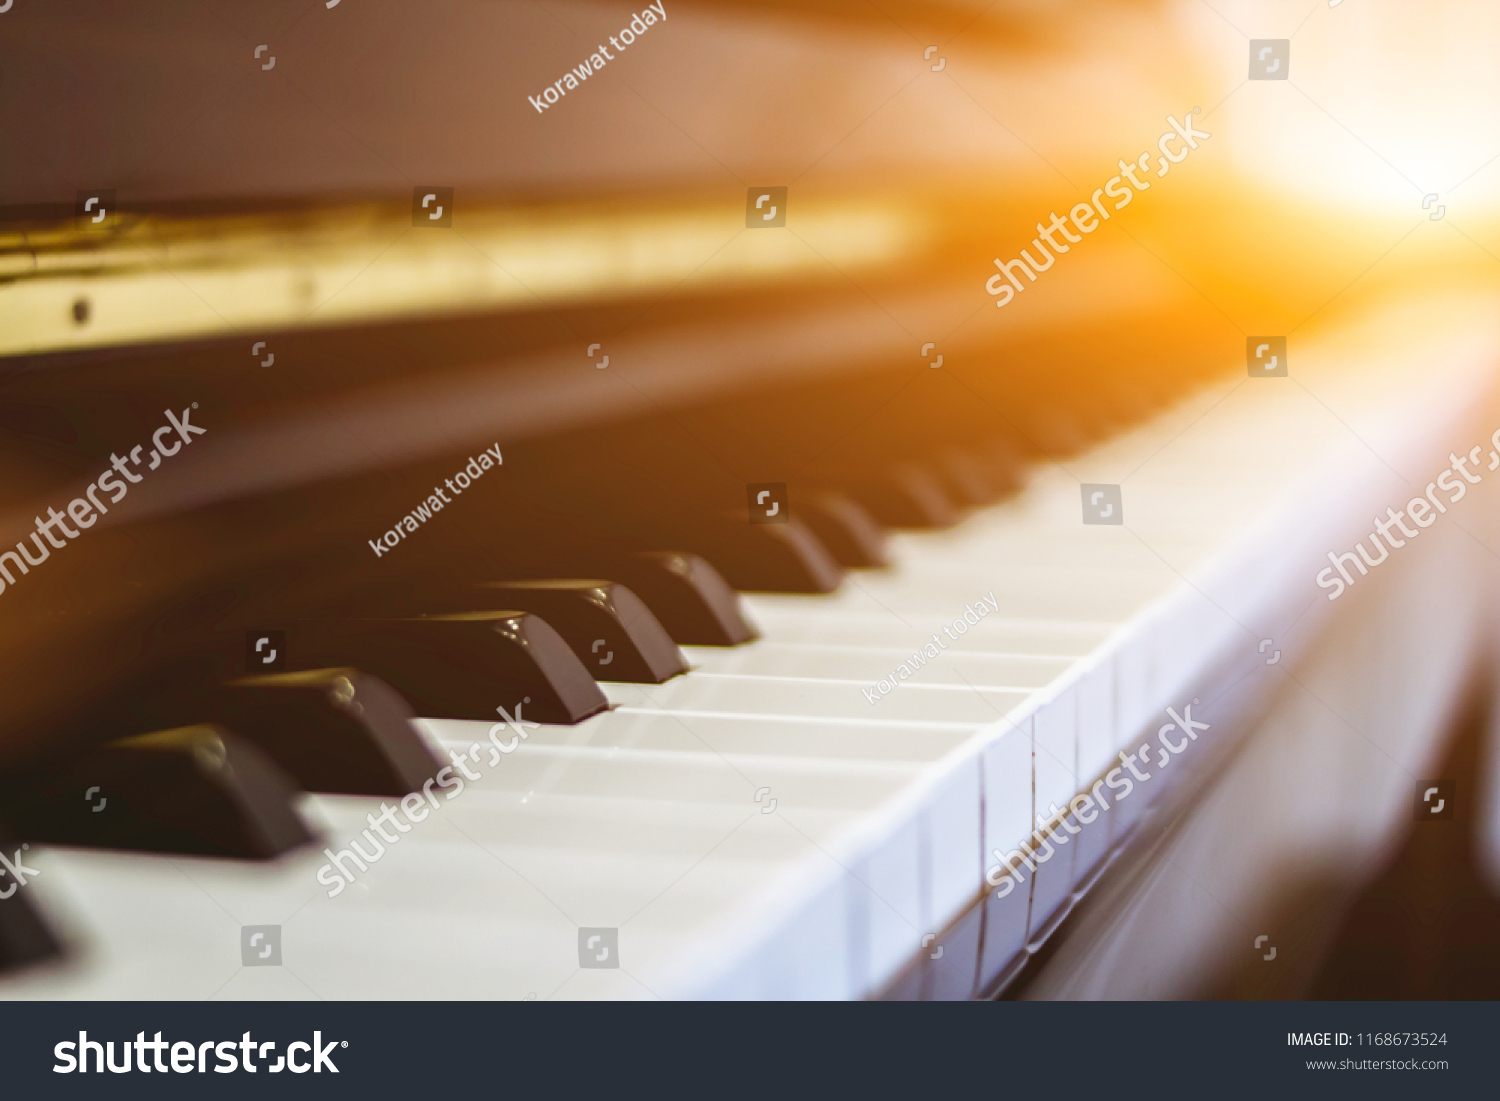Piano: (1, 135, 1446, 1095)
